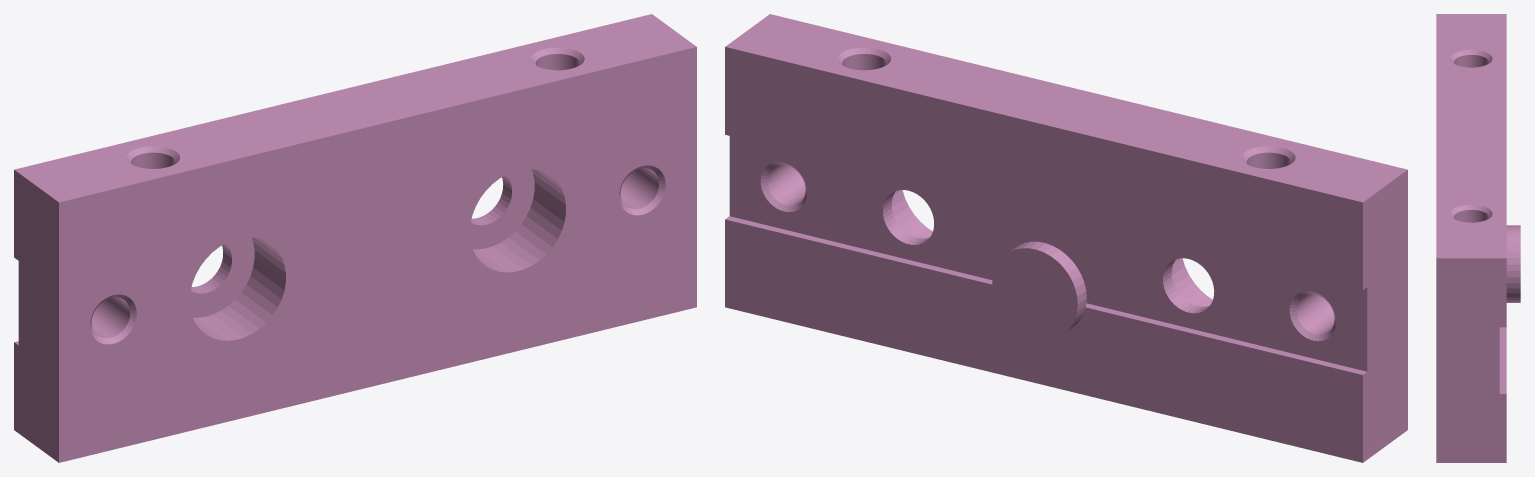
Rendered from case-02_lib00002.glb.
The picture shows the model from 3 angles, left to right: view 1: azimuth 30°, elevation 25°; view 2: azimuth 150°, elevation 25°; view 3: azimuth 270°, elevation 25°; orthographic projection. The views are drawn at different scales.
Parts seen in each view (by area): view 1: lib00002; view 2: lib00002; view 3: lib00002.
Boxes of the visible parts, x1=… form: lib00002: x1=14, y1=14, x2=696, y2=462; lib00002: x1=725, y1=14, x2=1407, y2=462; lib00002: x1=1436, y1=14, x2=1520, y2=462.
Bounding box in the file's own units: 41 × 16 × 6.
